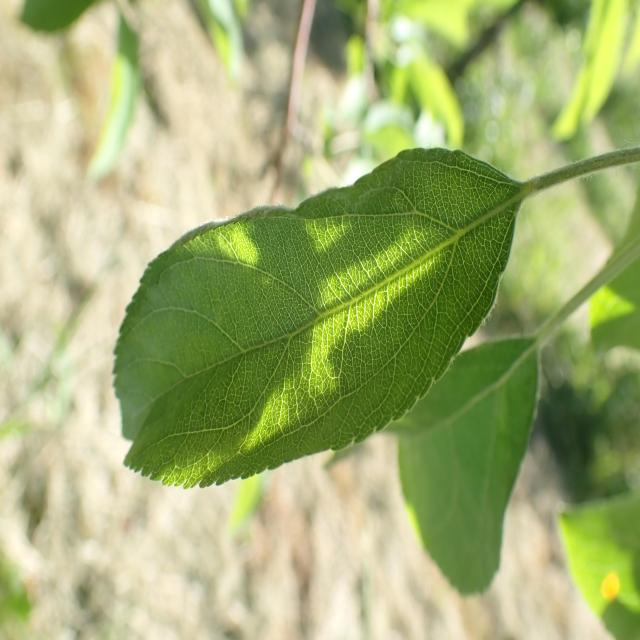healthy: (112, 146, 520, 489), (390, 334, 541, 598)
